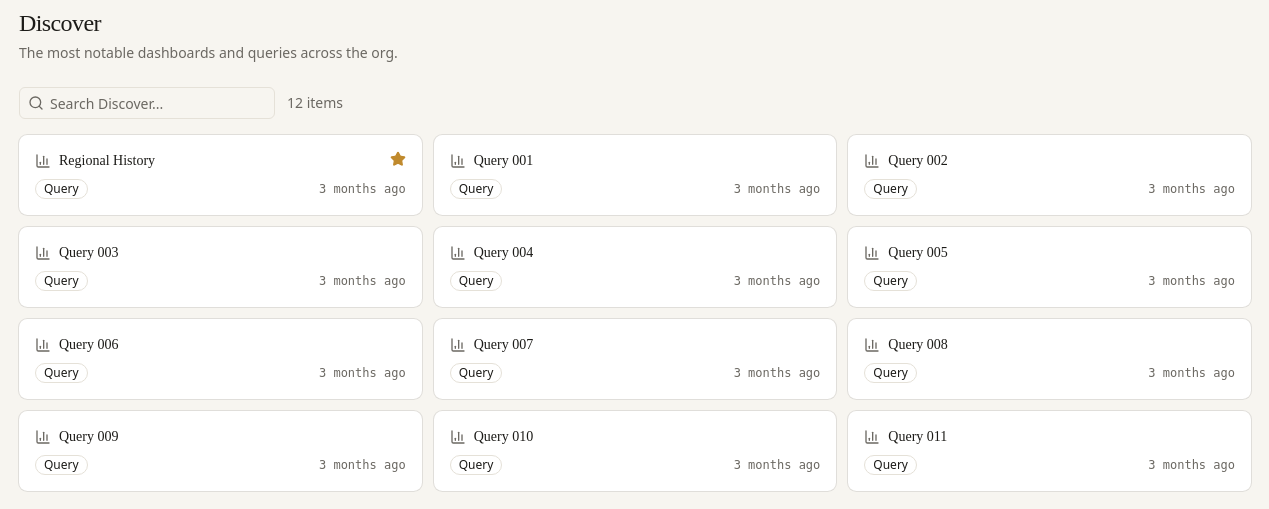
Discover reads the whole library › finds a query the ranking never surfaced, which the old search could not
This screenshot has width=1269, height=509.
Type "Query 060" into the search field named "Search dashboards and queries" at (159, 103), box x1=44 y1=85 x2=274 y2=121
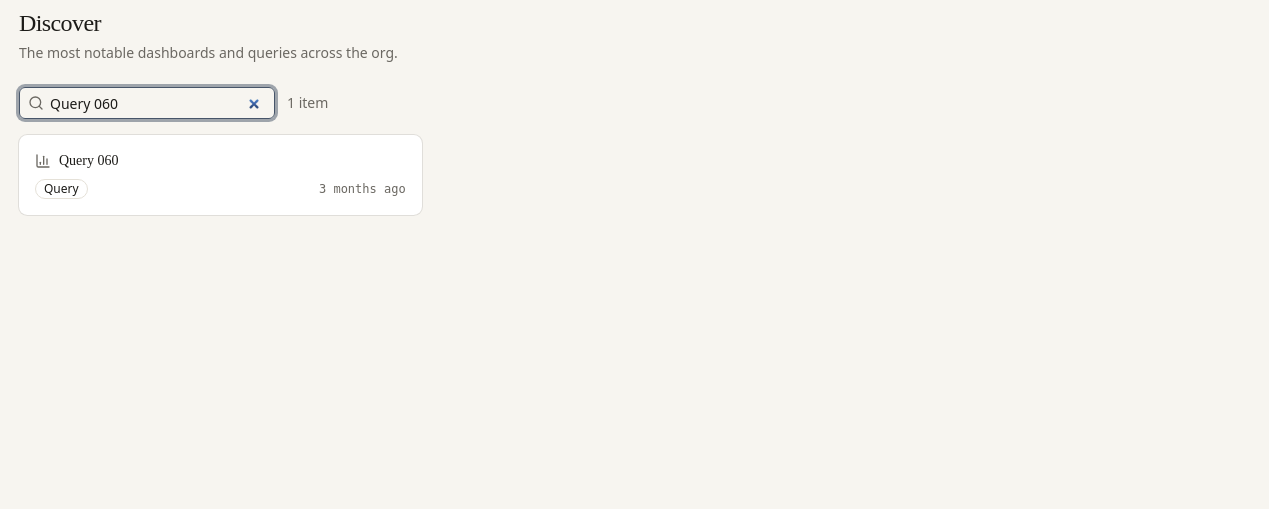
Now the text "Query 060" is shown, box x1=59 y1=151 x2=118 y2=171
